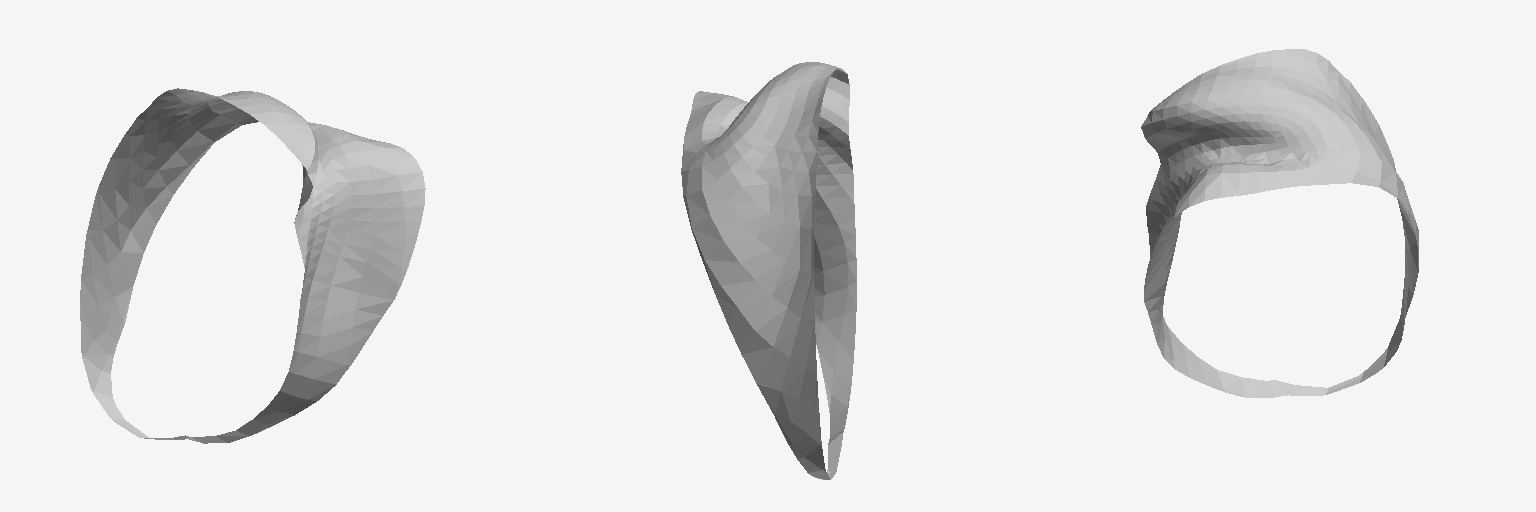
Rendered from coude_gauche.obj.
The picture shows the model from 3 angles: view 1: azimuth 30°, elevation 25°; view 2: azimuth 150°, elevation 25°; view 3: azimuth 270°, elevation 25°; orthographic projection.
Parts seen in each view (by area): view 1: 15548_French_Horseman_v1.005_15548_French_Horseman_v1.024; view 2: 15548_French_Horseman_v1.005_15548_French_Horseman_v1.024; view 3: 15548_French_Horseman_v1.005_15548_French_Horseman_v1.024.
Part boxes in pixels (x1,y1,x2,y2): 15548_French_Horseman_v1.005_15548_French_Horseman_v1.024: (80,88,425,443); 15548_French_Horseman_v1.005_15548_French_Horseman_v1.024: (681,62,856,479); 15548_French_Horseman_v1.005_15548_French_Horseman_v1.024: (1141,49,1418,397).
Size of the model in its own units: 0.4078 by 0.6121 by 0.4305.